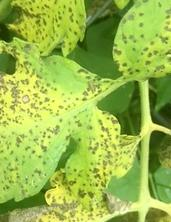Tomato leaf bacterial spot: (0, 41, 100, 208), (0, 154, 134, 222), (63, 104, 140, 207), (108, 0, 171, 92), (0, 0, 89, 64)
